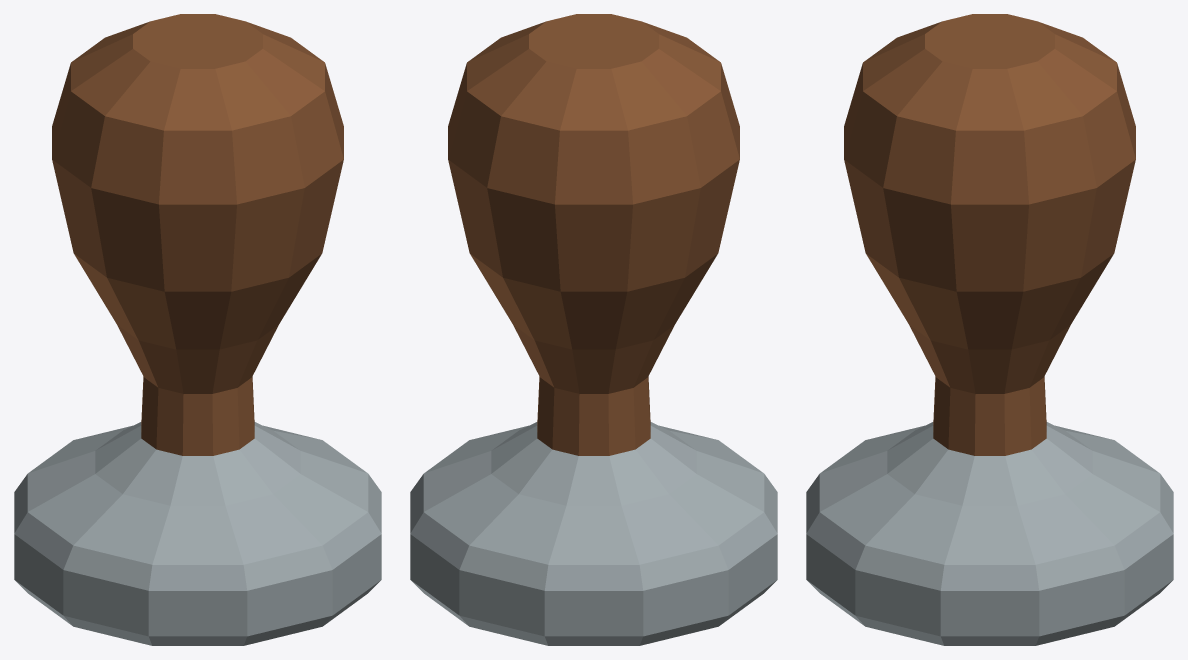
The picture shows the model from 3 angles, left to right: view 1: azimuth 30°, elevation 25°; view 2: azimuth 150°, elevation 25°; view 3: azimuth 270°, elevation 25°; orthographic projection.
Visible parts, largest first — view 1: ContinuousBroadBaseNeckAndRoundedGrip; view 2: ContinuousBroadBaseNeckAndRoundedGrip; view 3: ContinuousBroadBaseNeckAndRoundedGrip.
Boxes of the visible parts, bbox=[...] form: ContinuousBroadBaseNeckAndRoundedGrip: bbox=[14, 14, 381, 645]; ContinuousBroadBaseNeckAndRoundedGrip: bbox=[410, 14, 777, 645]; ContinuousBroadBaseNeckAndRoundedGrip: bbox=[806, 14, 1173, 645].
Size of the model in its own units: 0.0657 by 0.105 by 0.0657.
